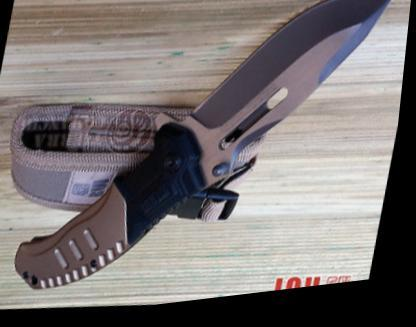knife: (172, 0, 410, 213)
